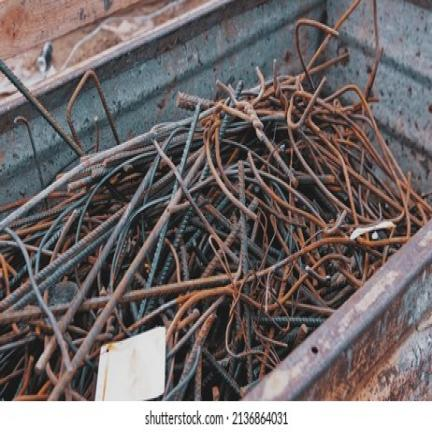besi_tidak_karat: (5, 226, 71, 371), (87, 155, 160, 286), (0, 164, 84, 229), (36, 196, 89, 279), (173, 107, 201, 194), (239, 76, 276, 97)
karat: (288, 284, 421, 404), (352, 328, 431, 404), (287, 95, 372, 151), (295, 21, 350, 94), (259, 178, 327, 229), (170, 286, 234, 336), (15, 358, 61, 404), (193, 317, 215, 356), (0, 254, 17, 300), (206, 119, 222, 165), (364, 71, 375, 100)
